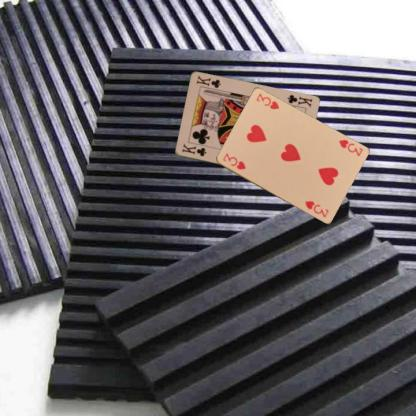3h: (336, 137, 364, 158), (220, 151, 247, 171)
Kc: (285, 92, 313, 108), (180, 142, 207, 158)
